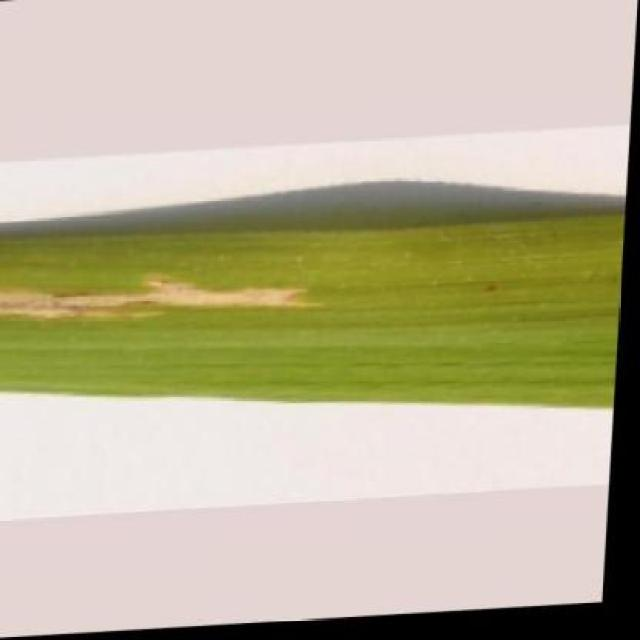Brown_Spot: (0, 208, 629, 450)
